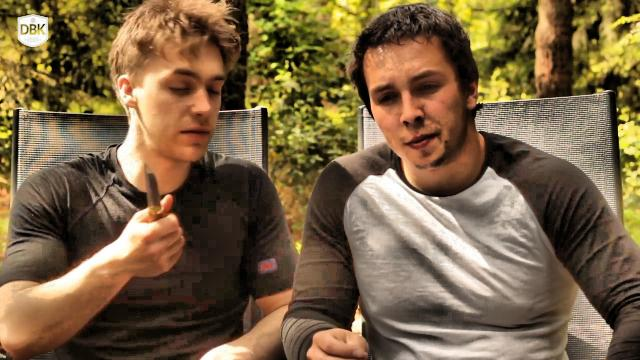knife: (131, 150, 185, 240)
